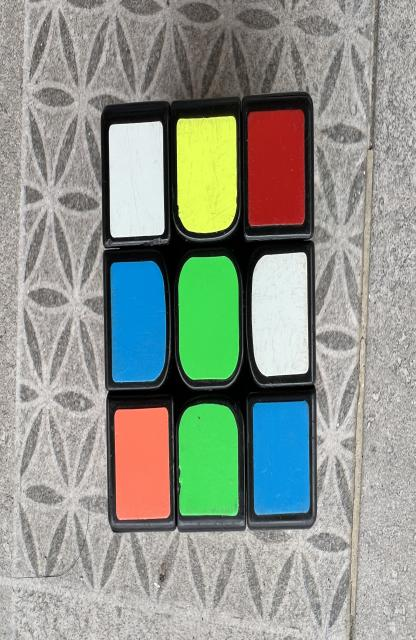Blue: (110, 260, 167, 383), (253, 400, 310, 515)
Green: (178, 255, 239, 380), (179, 403, 239, 517)
Orange: (115, 407, 171, 520)
Red: (248, 110, 305, 227)
White: (252, 253, 309, 377), (109, 122, 165, 238)
Yellow: (176, 115, 237, 233)
